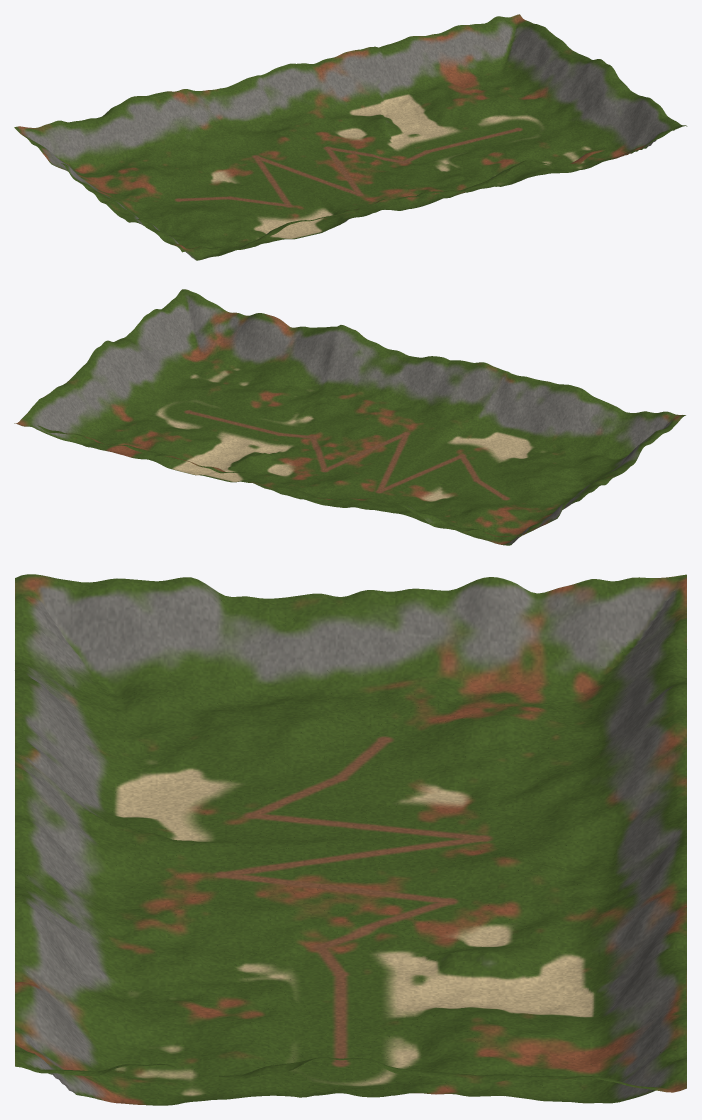
File: SM_Art_Terrain_L_NoSafeHarbor.gltf
3 views of the same model, one above another, from view 1: azimuth 30°, elevation 25°; view 2: azimuth 150°, elevation 25°; view 3: azimuth 270°, elevation 25° (orthographic). The views are drawn at different scales.
Visible parts, largest first — view 1: SM_Art_Terrain_L_NoSafeHarbor; view 2: SM_Art_Terrain_L_NoSafeHarbor; view 3: SM_Art_Terrain_L_NoSafeHarbor.
Part boxes in pixels (bbox=[...]): SM_Art_Terrain_L_NoSafeHarbor: bbox=[14, 14, 687, 260]; SM_Art_Terrain_L_NoSafeHarbor: bbox=[14, 289, 685, 545]; SM_Art_Terrain_L_NoSafeHarbor: bbox=[15, 574, 686, 1105].
Bounding box in the file's own units: 344 × 31.3 × 199.
Materials: 2 (2 with a texture image).
